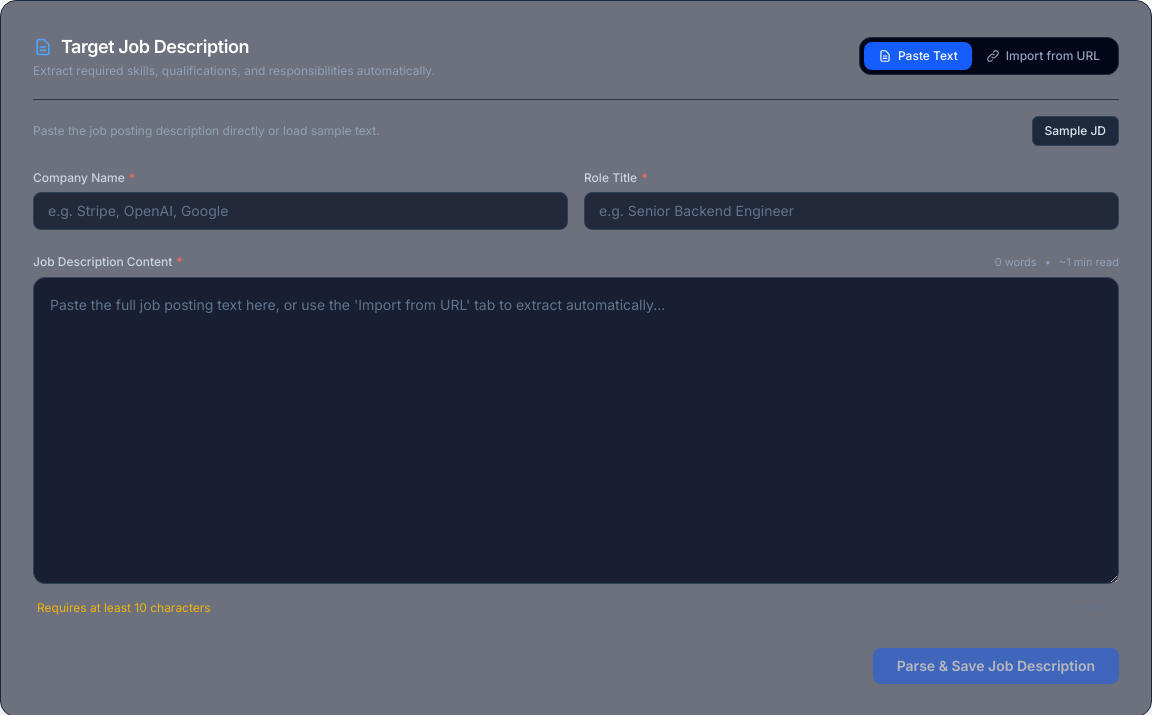
Test: JDPasteForm Component - Scraper UI & Tab Integration › should switch between Paste Text and Import from URL tabs
Check: the field with placeholder "https://boards.greenhouse.io" is not shown
Switch to URL mode
Click the button "Import from URL" at x=1043, y=56, box x1=972 y1=42 x2=1114 y2=70
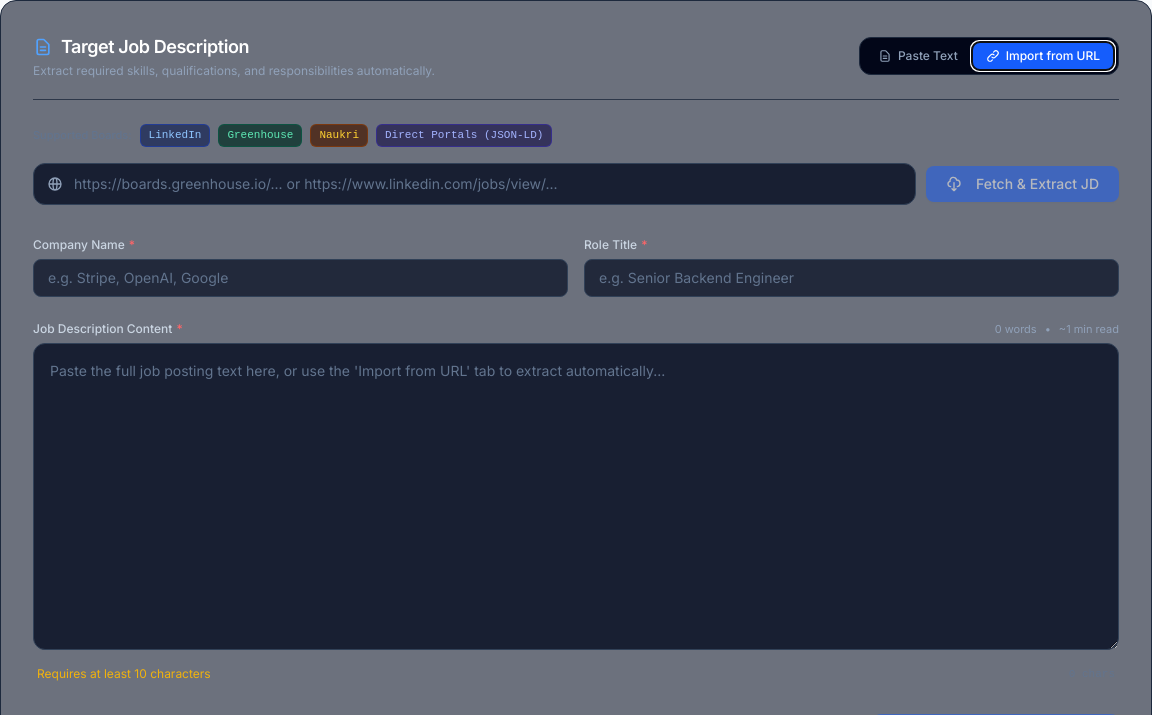
Check: the field with placeholder "https://boards.greenhouse.io" is shown, box x1=33 y1=162 x2=916 y2=204
Check: the button "Fetch & Extract JD" is shown, box x1=926 y1=166 x2=1119 y2=202
Check: the text "LinkedIn" is shown, box x1=140 y1=124 x2=210 y2=146
